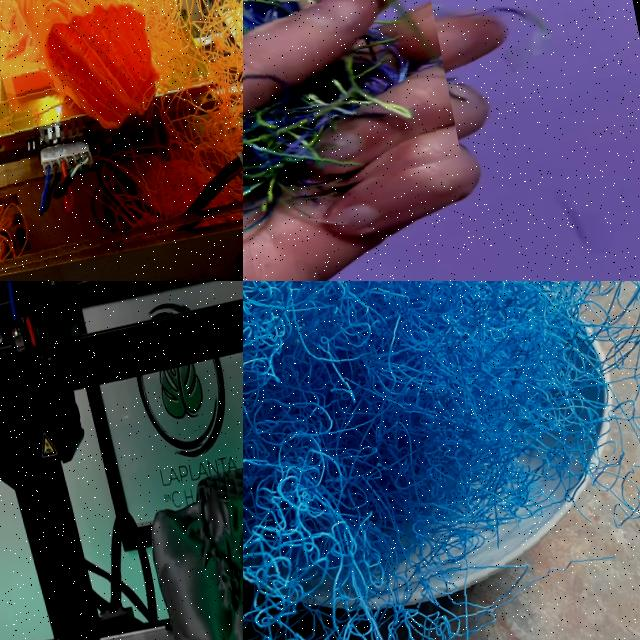spaghetti: (243, 281, 640, 640), (0, 0, 243, 281), (243, 0, 465, 244)
